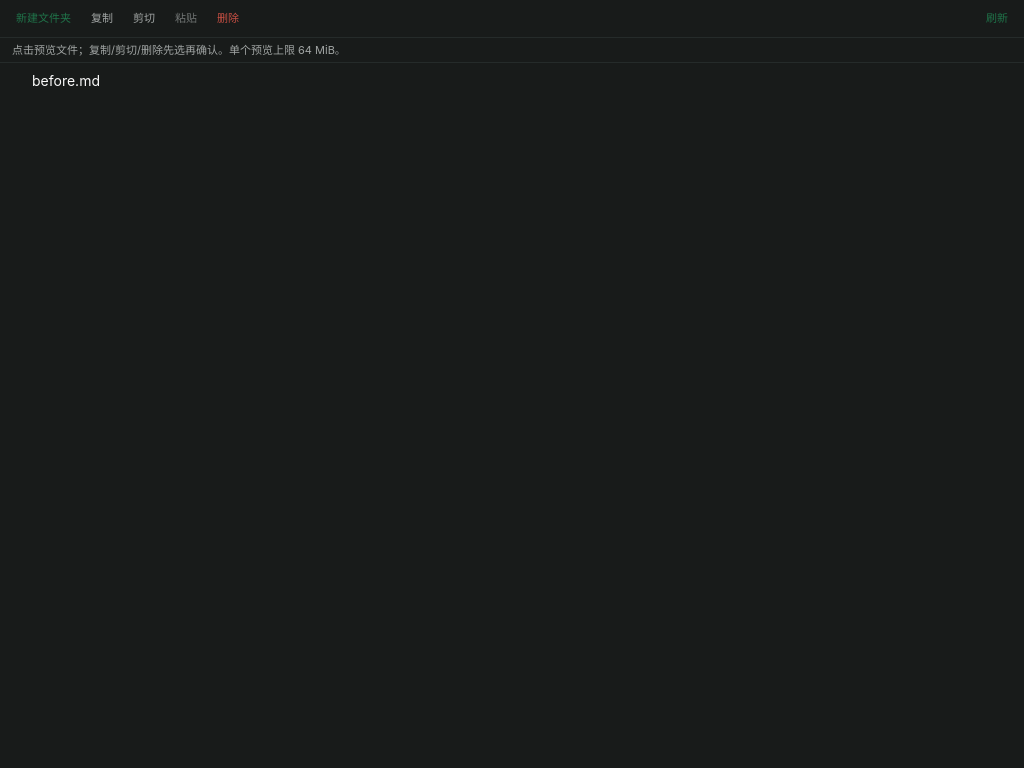
Test: the files panel › refreshes the root without requiring a page reload
The width and height of the screenshot is (1024, 768).
Check: the text "before.md" is shown, box [32,71,100,91]
Click the button "刷新".
click(997, 18)  # box [978,6,1016,30]
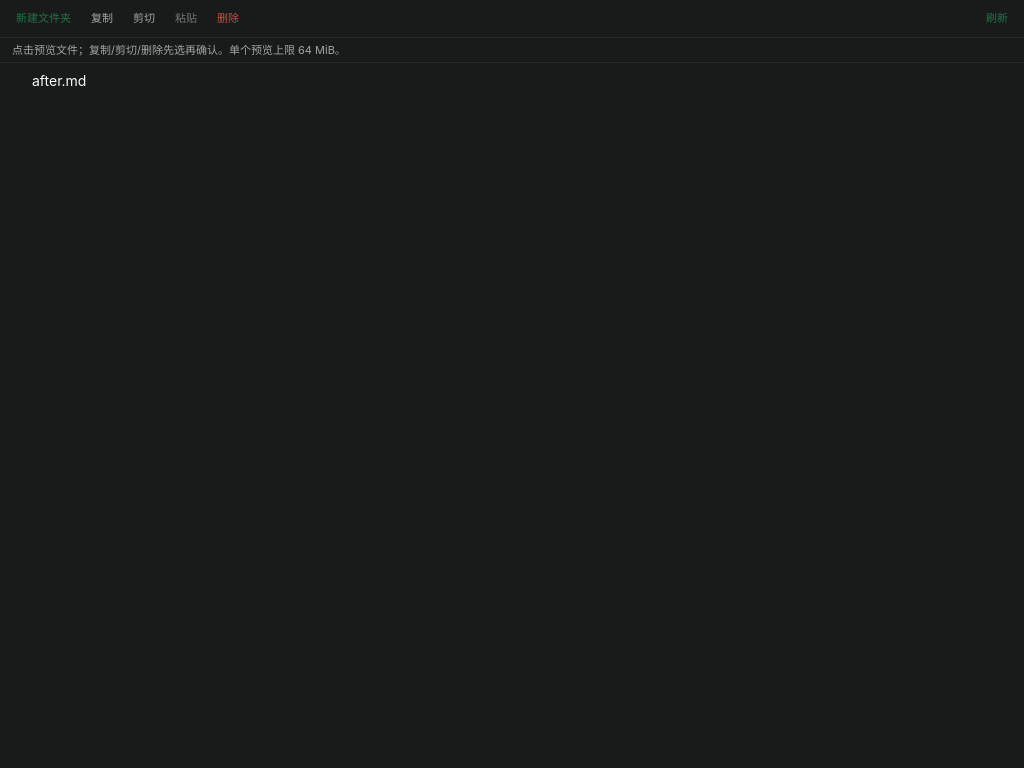
Check: the text "after.md" is shown, box [32,71,86,91]
Check: the list item "before.md" is gone
